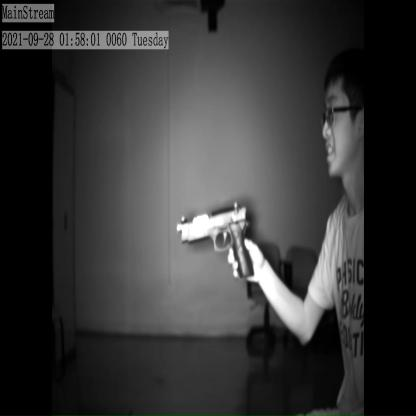weapon: (178, 196, 254, 285)
